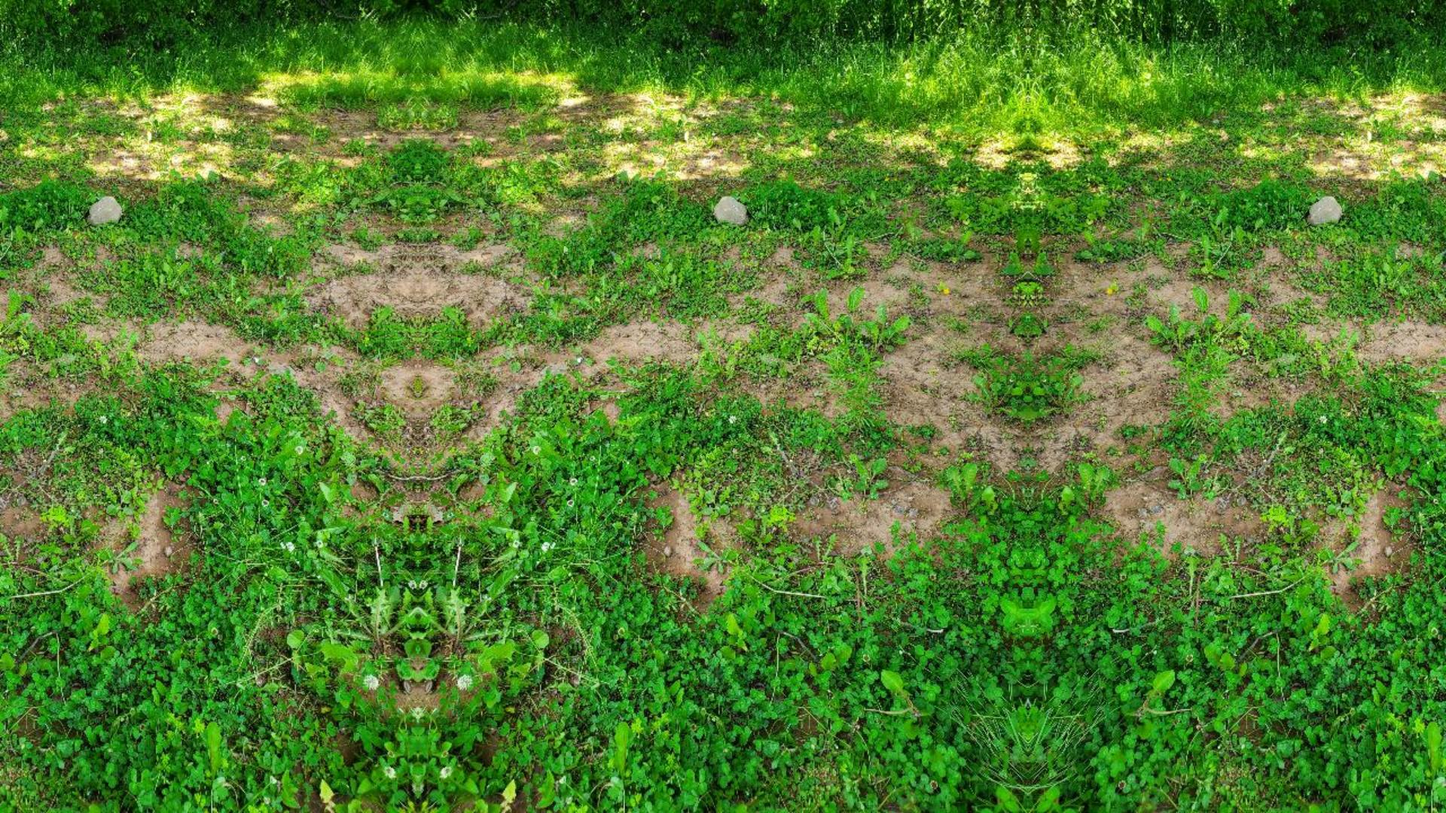rock: (87, 195, 122, 226), (1307, 195, 1342, 225), (713, 196, 748, 225)
